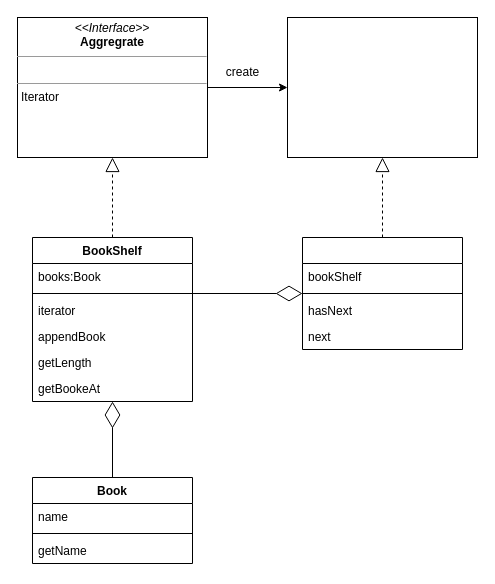
Image size: 495x584. Some labels were removed from this diagram. Here are the shapes that lost their labels. From the top down, the box of each, then its label:
(286, 16, 478, 158): <<Interface>> Iterator hasNext next
(302, 236, 462, 350): BookShelfIterator
